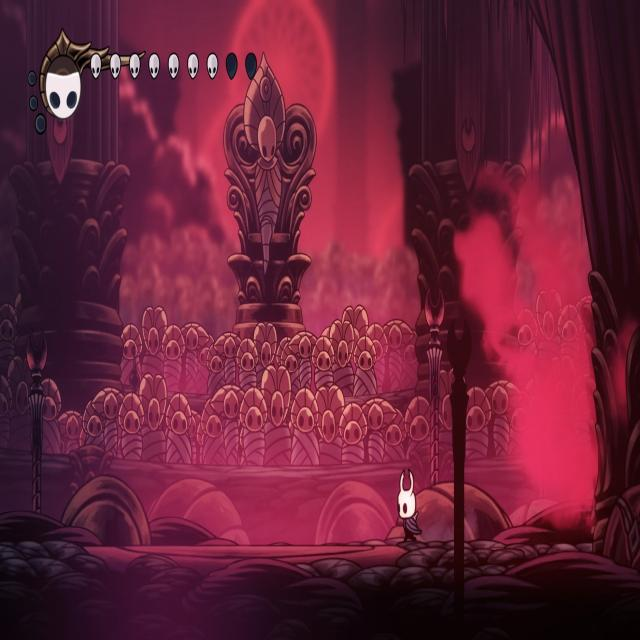Player: (394, 462, 423, 548)
